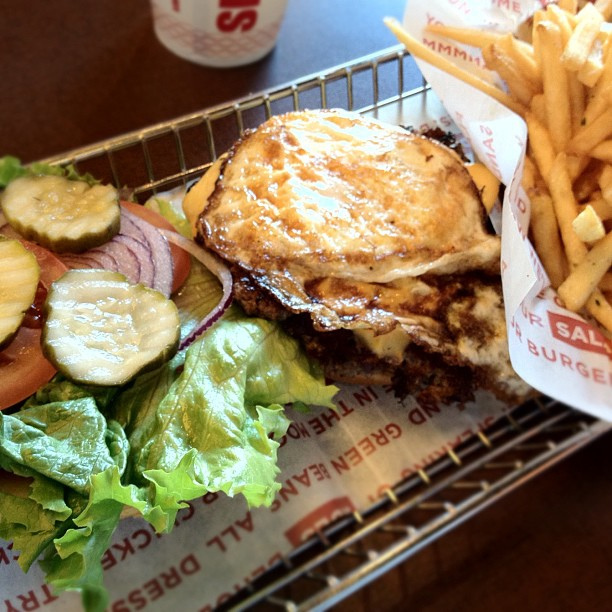chopped lettuce: (137, 332, 310, 519), (4, 409, 131, 588)
fried egg: (225, 108, 496, 285)
